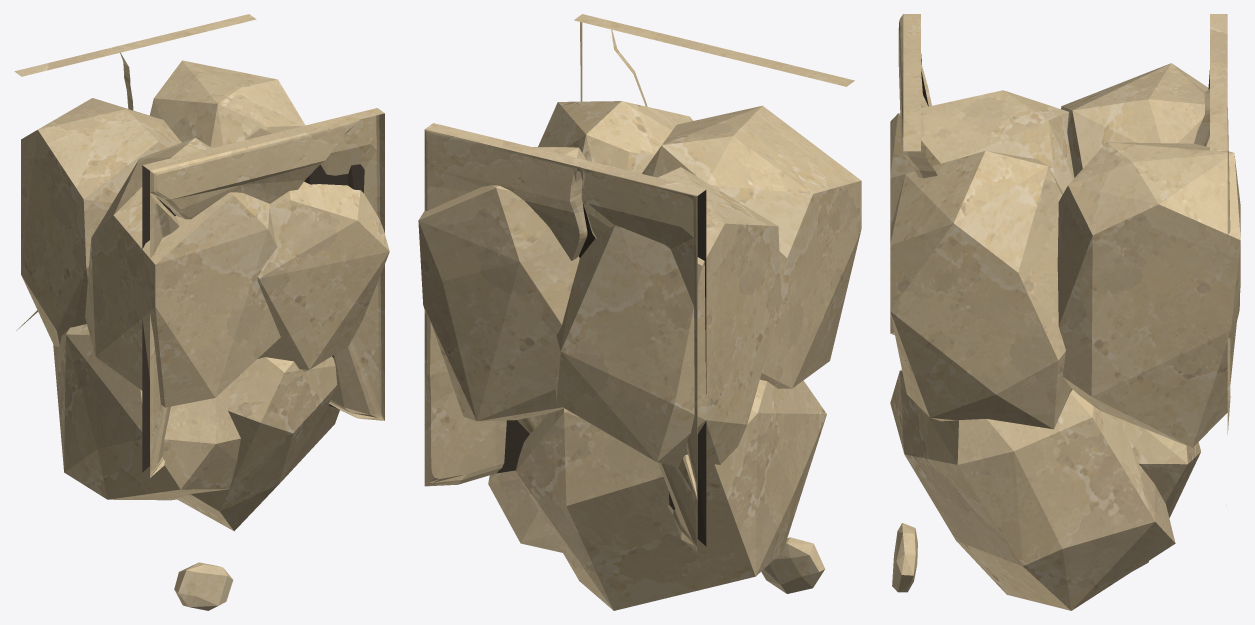
Rendered from ground_bottom_strip_01.glb.
The picture shows the model from 3 angles, left to right: view 1: azimuth 30°, elevation 25°; view 2: azimuth 150°, elevation 25°; view 3: azimuth 270°, elevation 25°; orthographic projection. The views are drawn at different scales.
Visible parts, largest first — view 1: GroundBottomStrip01_Body; view 2: GroundBottomStrip01_Body; view 3: GroundBottomStrip01_Body.
Part boxes in pixels (x1=…): GroundBottomStrip01_Body: x1=14, y1=14, x2=389, y2=610; GroundBottomStrip01_Body: x1=418, y1=14, x2=861, y2=610; GroundBottomStrip01_Body: x1=890, y1=14, x2=1240, y2=610.
Size of the model in its own units: 1 by 1.85 by 1.08.
9 materials, 8 textured.
